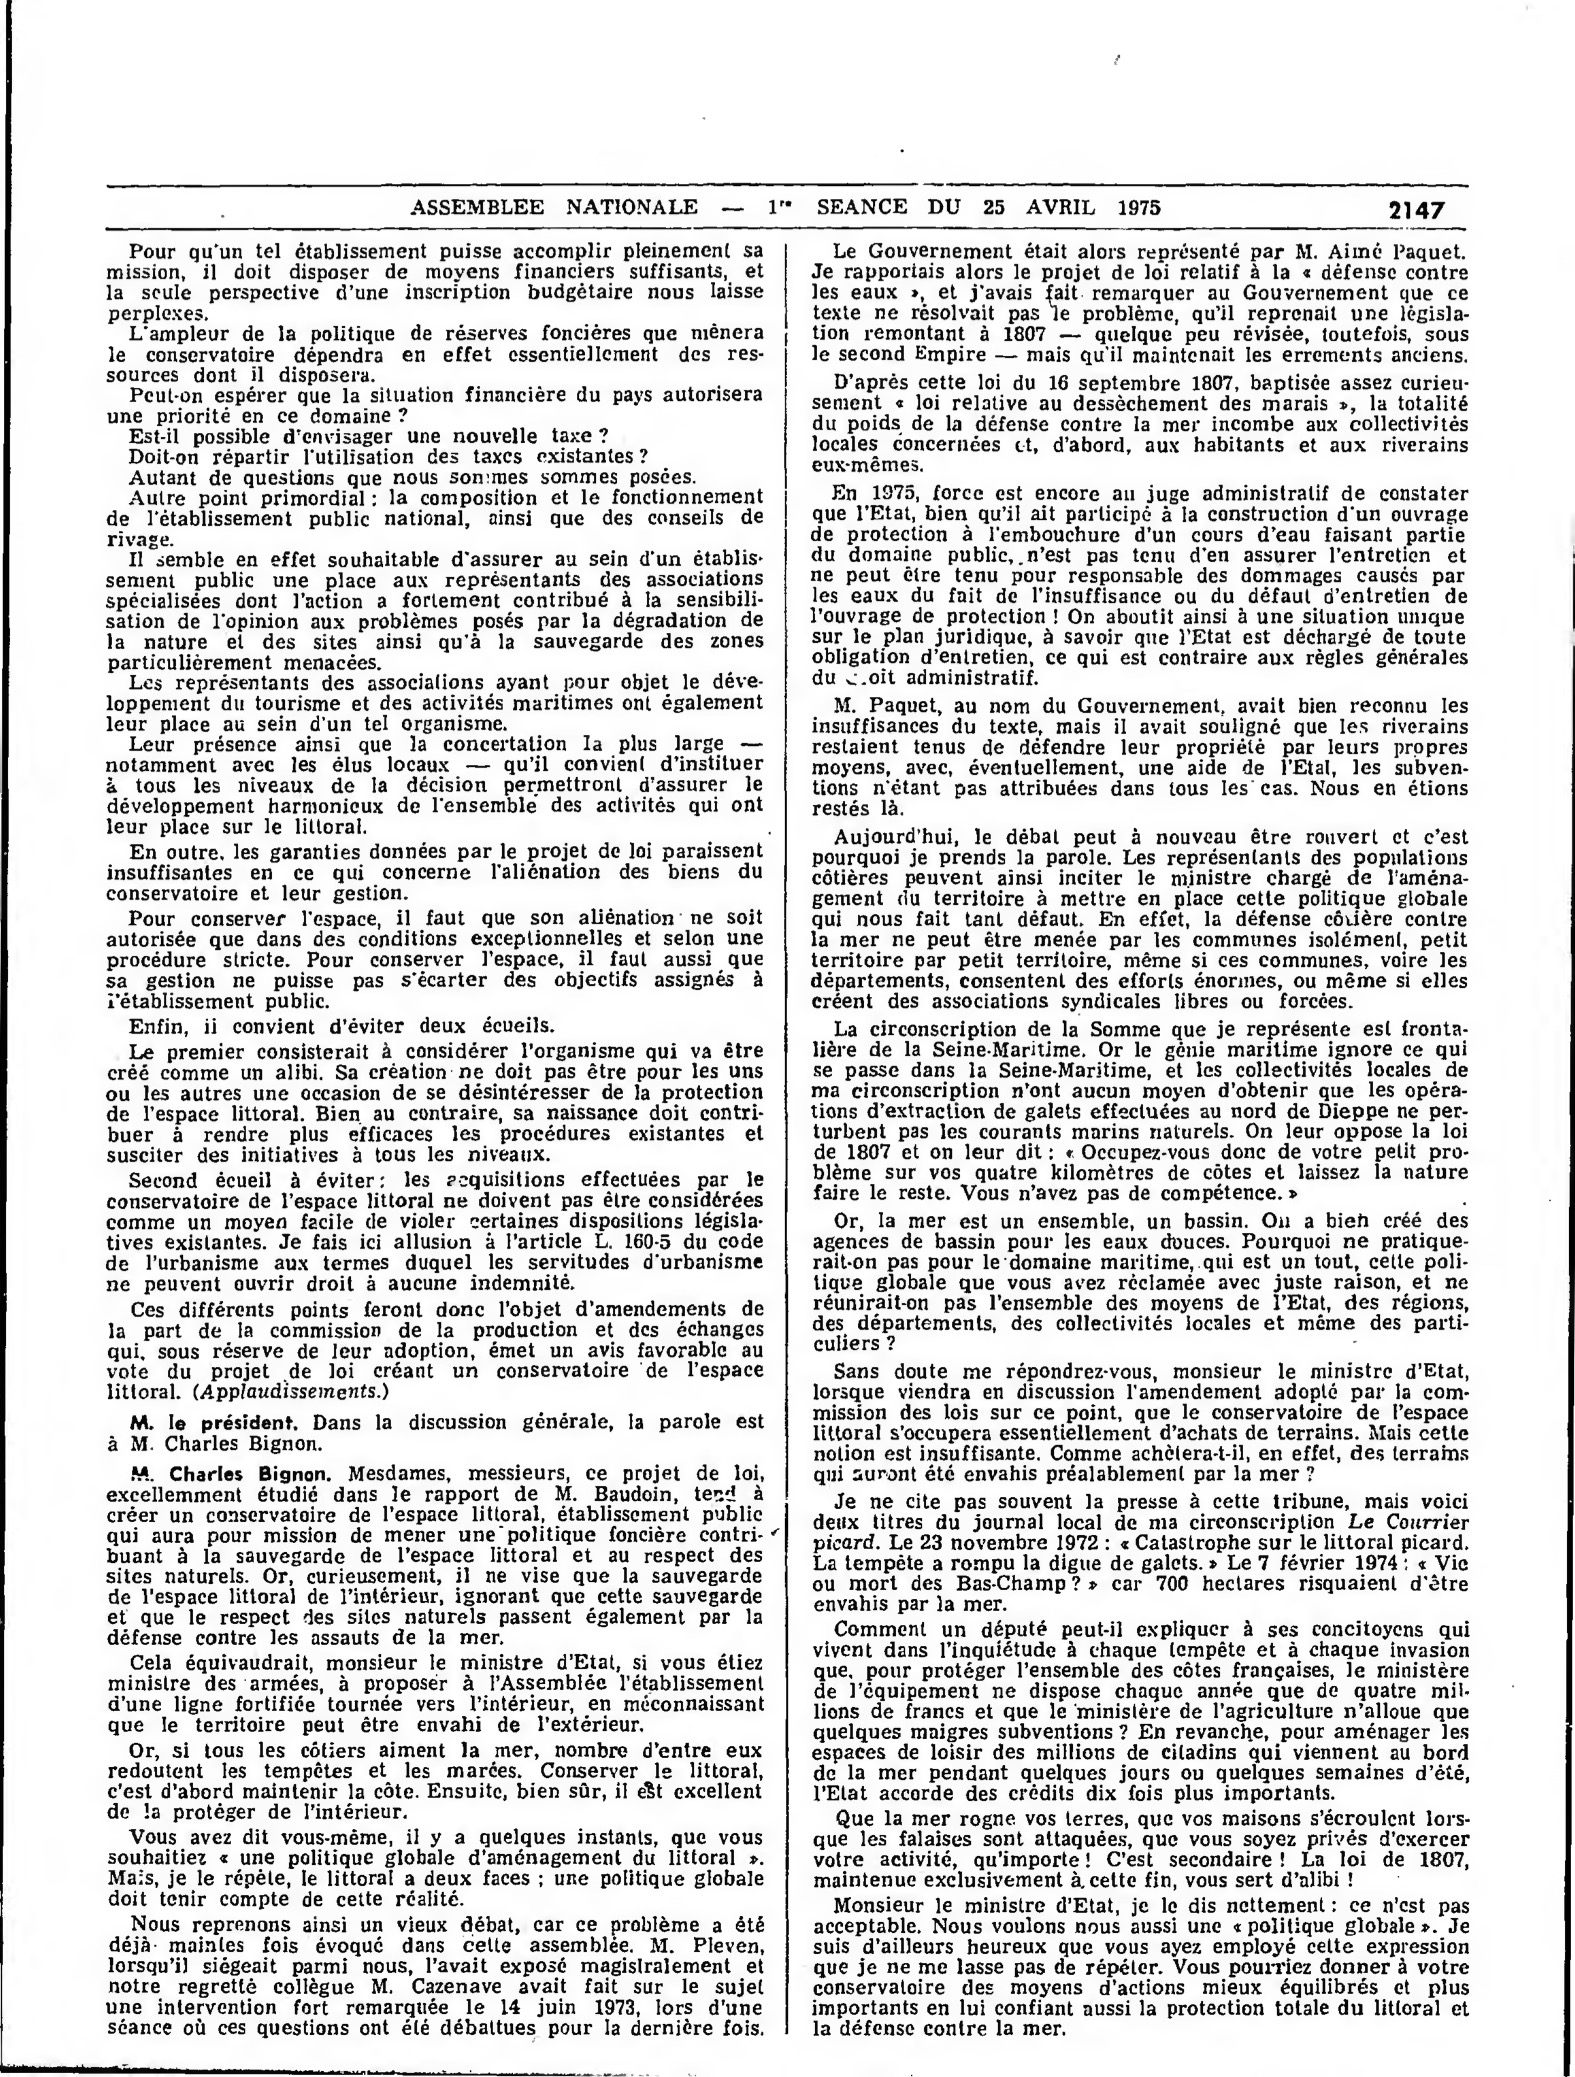MainZone-P: (807, 483, 1471, 690), (812, 1621, 1477, 1806), (811, 827, 1474, 1012), (812, 1020, 1471, 1204), (104, 1467, 766, 1647), (807, 1897, 1474, 2041), (812, 1210, 1469, 1354), (809, 240, 1474, 369), (812, 1363, 1471, 1490), (812, 1490, 1474, 1616), (104, 1915, 773, 2039), (106, 1169, 764, 1295), (106, 549, 763, 675), (811, 696, 1474, 820), (103, 1042, 764, 1166), (104, 1295, 766, 1404), (103, 905, 764, 1012), (812, 369, 1472, 476), (106, 733, 764, 837), (106, 1652, 766, 1740), (104, 1740, 764, 1824), (104, 1831, 769, 1912), (809, 1811, 1472, 1892), (99, 238, 769, 318), (103, 837, 764, 903), (104, 485, 766, 547), (103, 322, 768, 384), (106, 673, 764, 731), (104, 1412, 766, 1455), (106, 384, 764, 425), (127, 468, 701, 488), (126, 1014, 554, 1038), (126, 446, 658, 465), (127, 428, 615, 446)
NumberingZone: (1381, 197, 1449, 222)
RunningTitleZone: (407, 192, 1166, 222)
